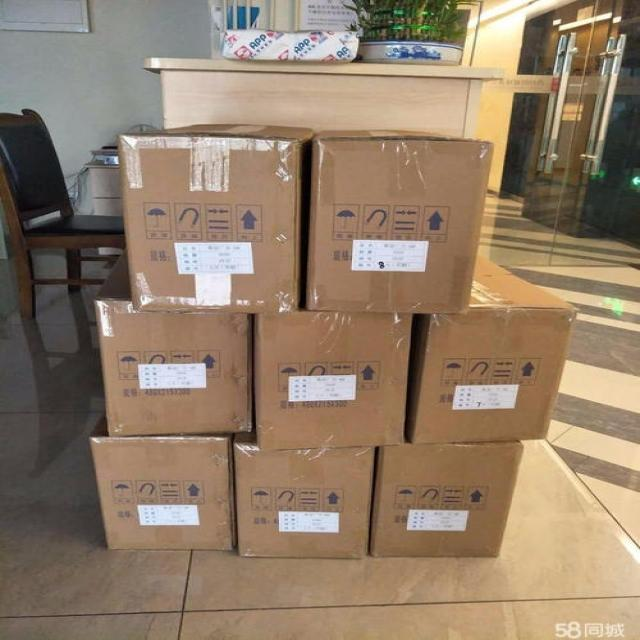box: (118, 121, 314, 308), (309, 128, 493, 315), (408, 254, 580, 444), (95, 245, 252, 438), (254, 310, 413, 451), (87, 411, 236, 549), (370, 442, 525, 557), (231, 432, 375, 555)
